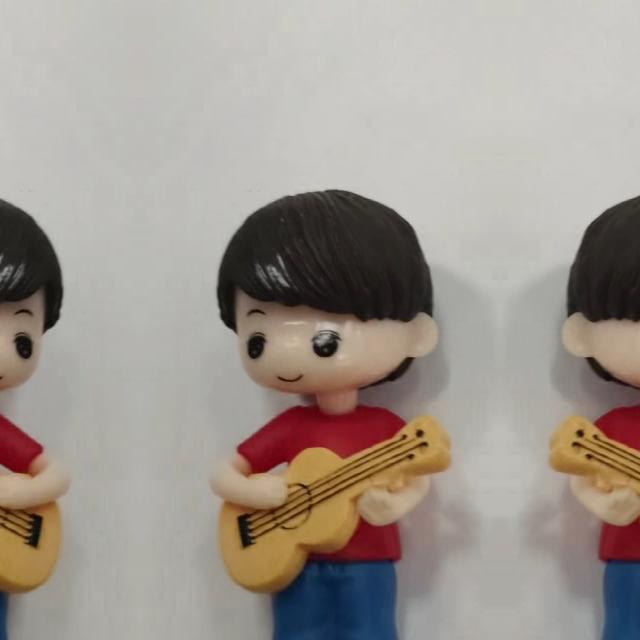man cloth: (235, 396, 430, 562), (570, 396, 640, 562), (0, 396, 45, 562)
man head: (214, 180, 442, 410), (558, 180, 640, 409), (0, 180, 66, 409)
trousers: (260, 560, 408, 640), (592, 560, 640, 640), (0, 560, 20, 640)
